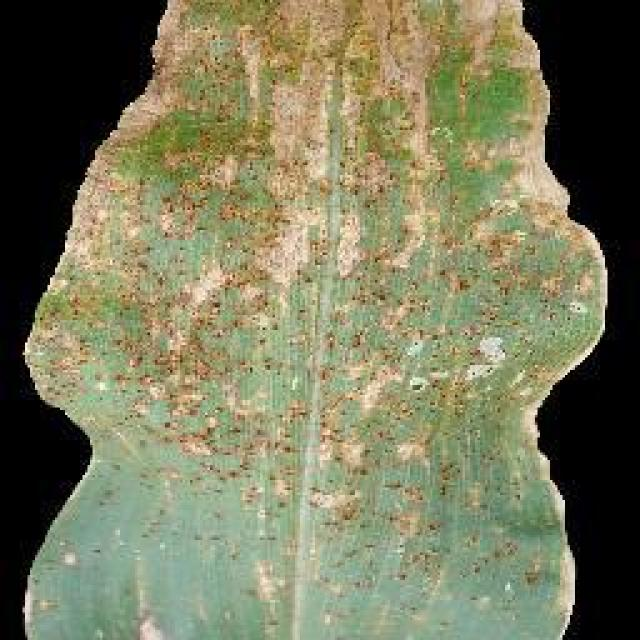Corn Common Rust: (93, 22, 560, 555)
